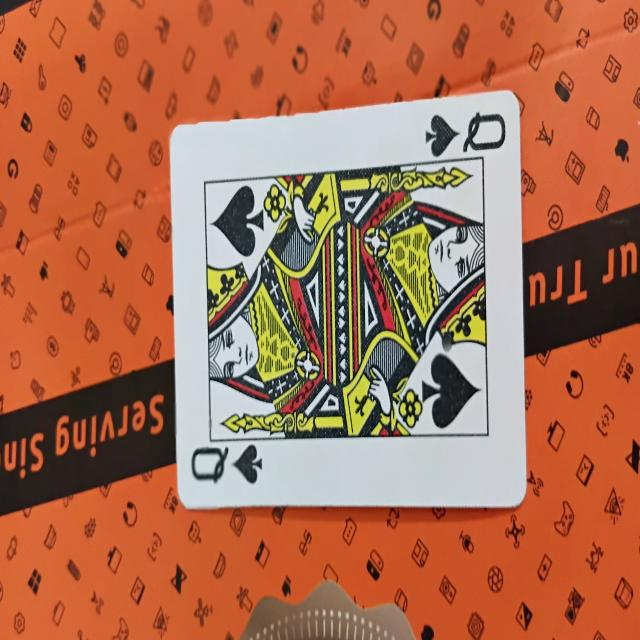QS: (173, 92, 522, 510)
